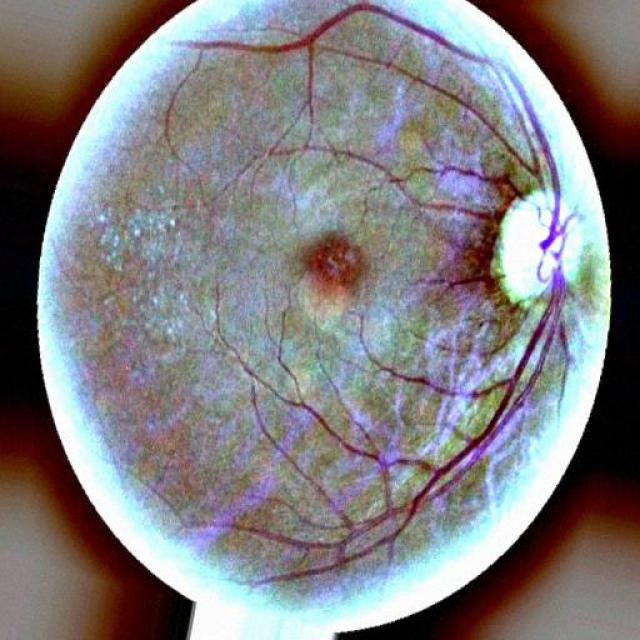Macula: (301, 228, 369, 298)
Nerves: (334, 268, 564, 553), (308, 3, 565, 214)
Optic Disk: (481, 188, 593, 316)
